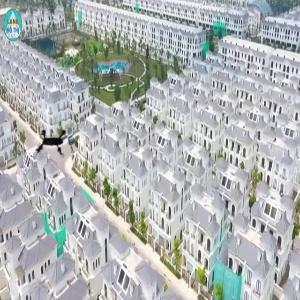drone: (28, 120, 82, 174)
